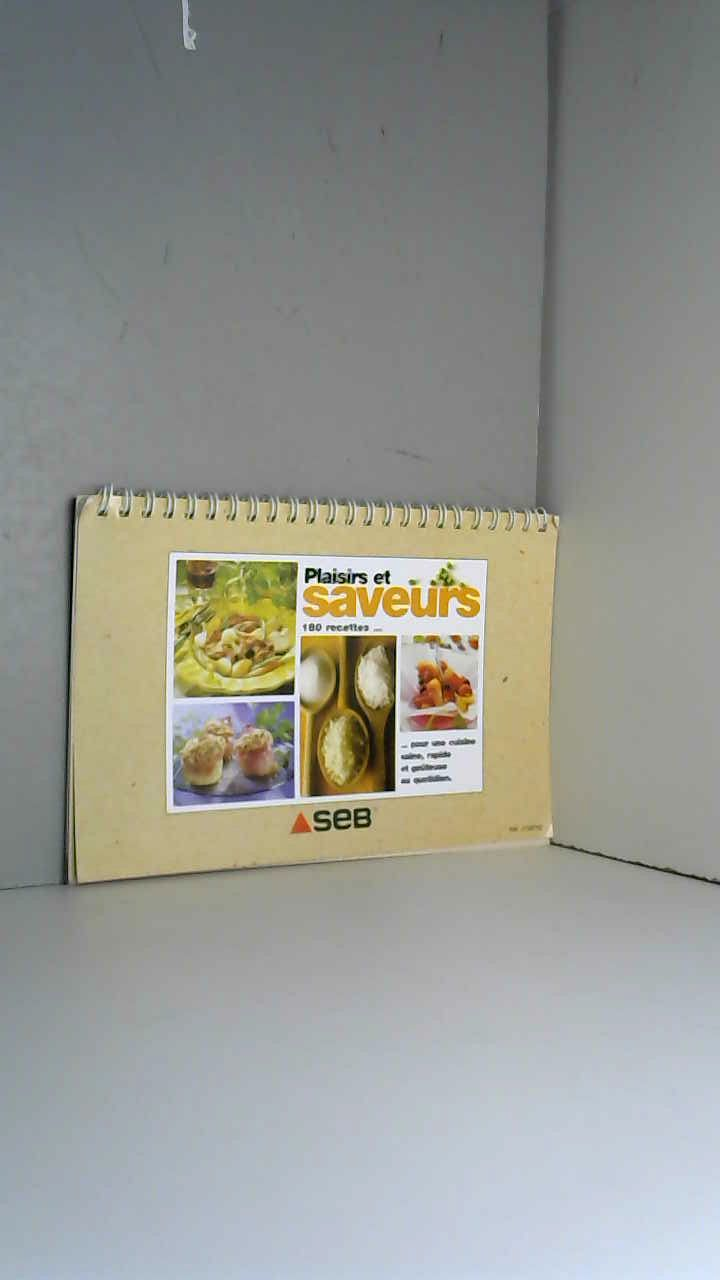book: (30, 470, 716, 914)
